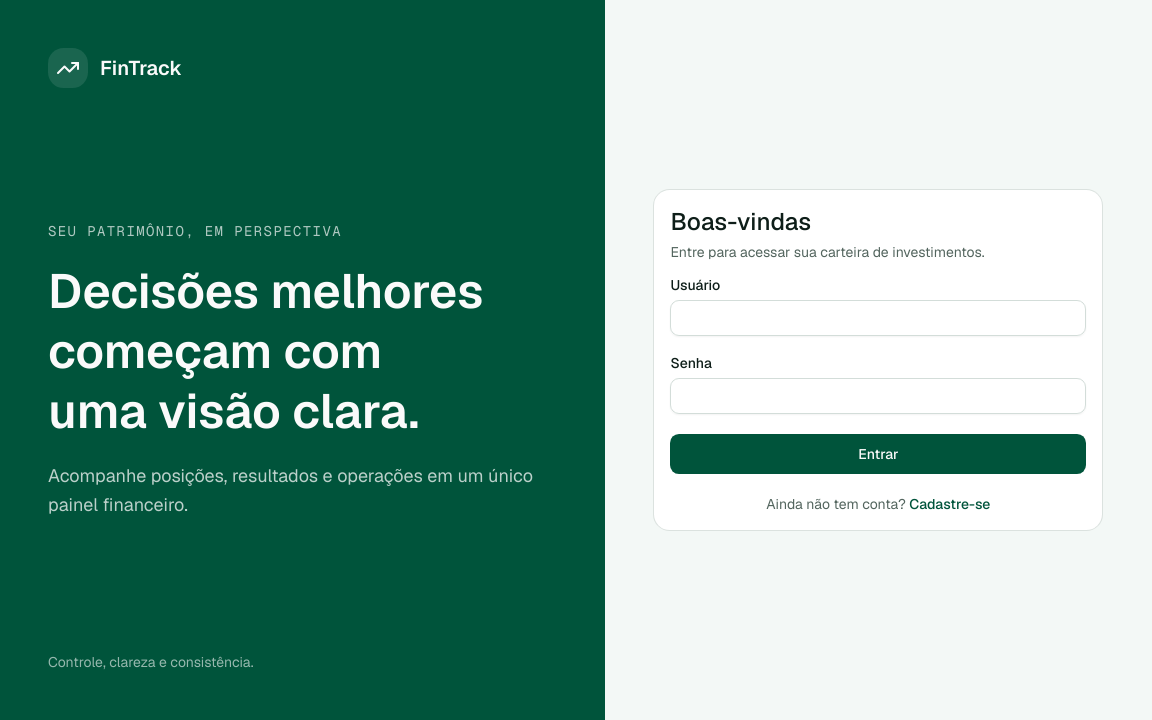
Scenario: Login flow › invalid credentials show backend message
In the field labelled "Usuário": (878, 318) [670,300,1086,336], type "bad"
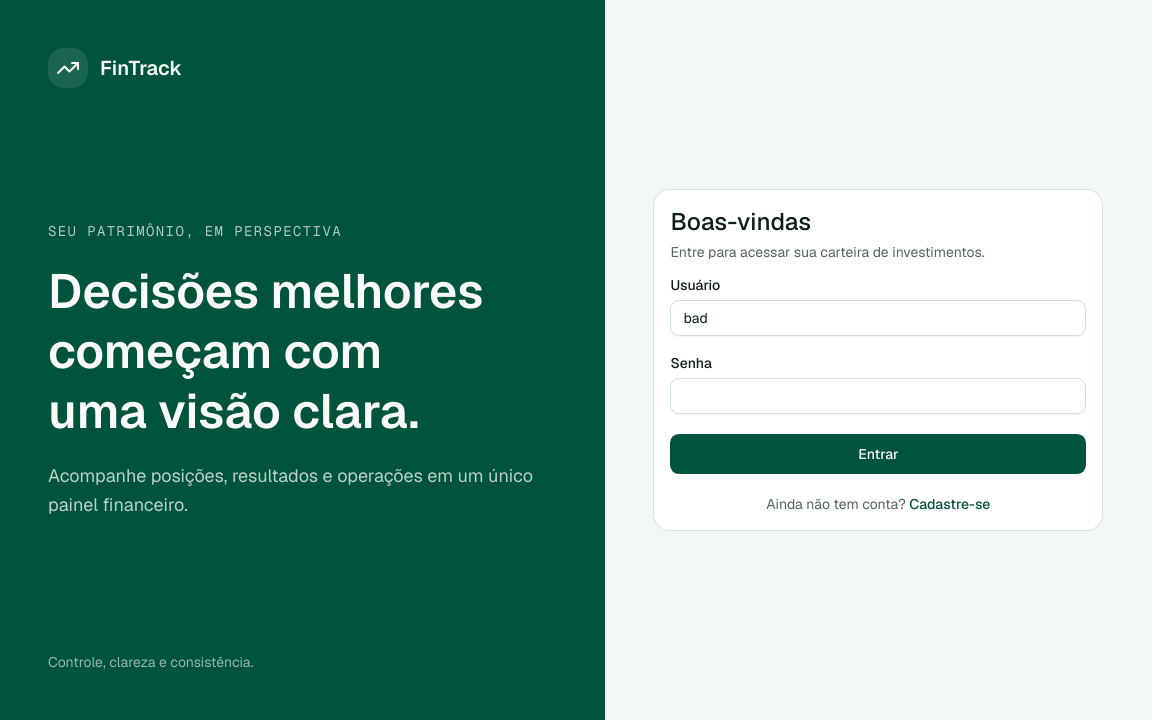
In the password field labelled "Senha": (878, 396) [670,378,1086,414], type "bad"
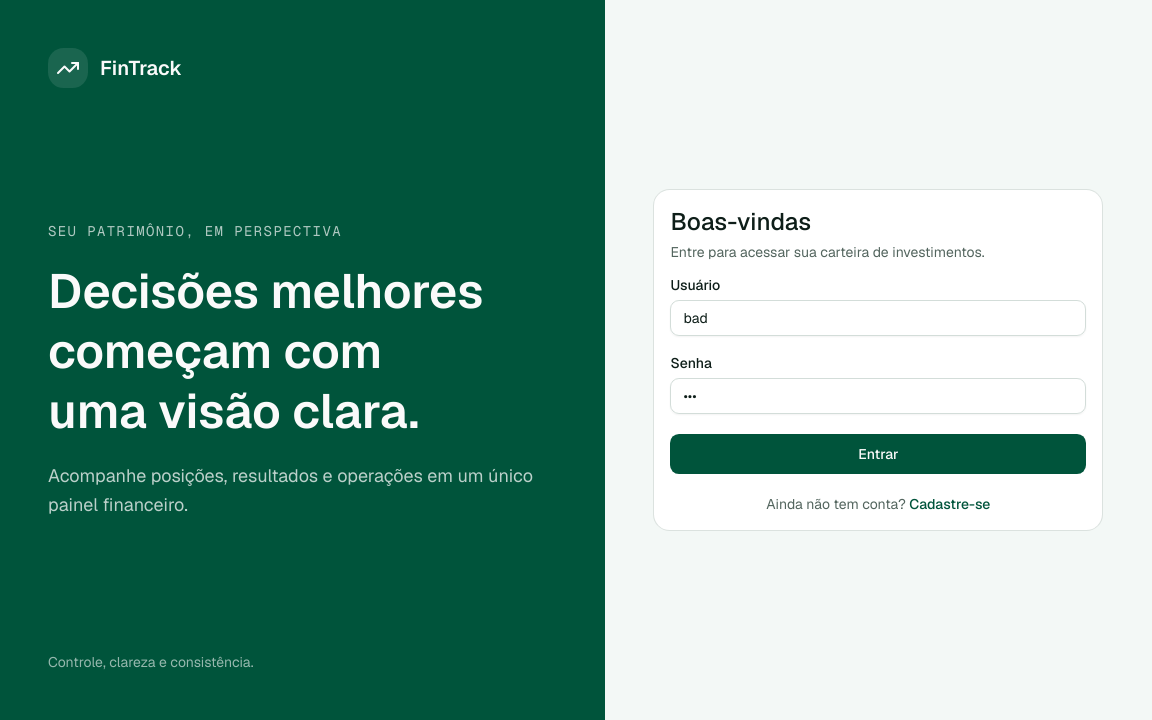
Click the button "Entrar": (878, 454) [670,434,1086,474]
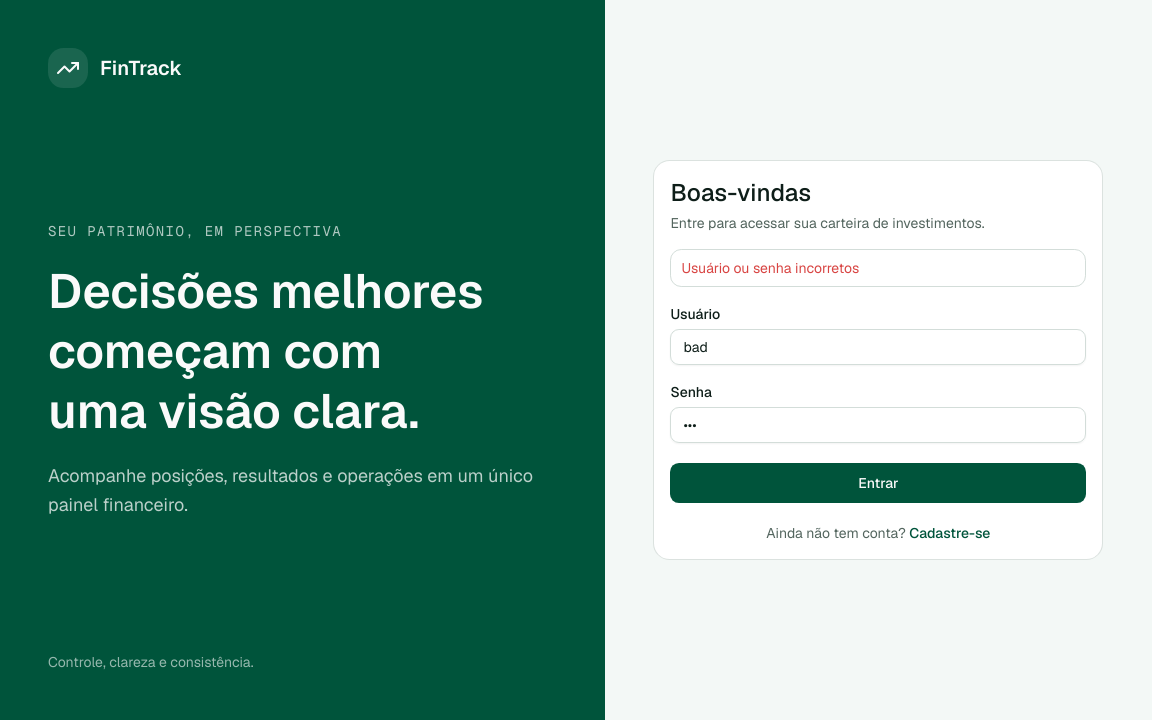
Check: the text "Usuário ou senha incorretos" is shown, box [681,259,859,277]
